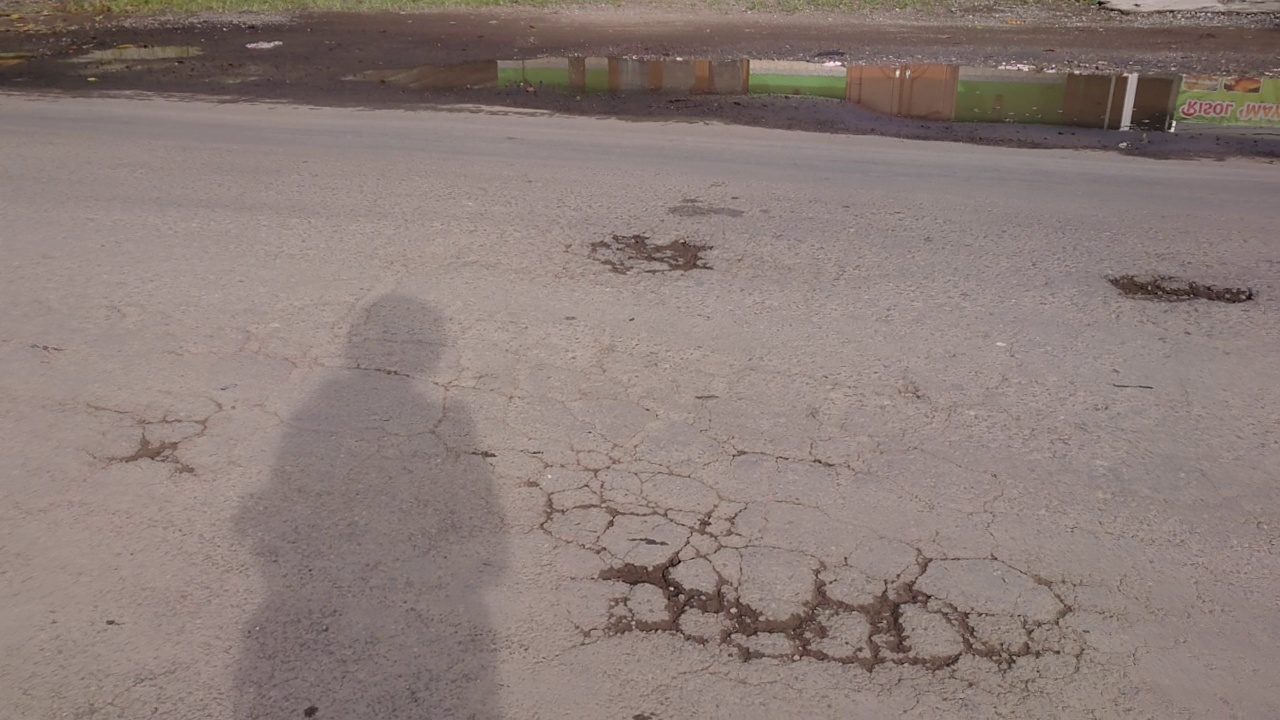Retak: (580, 467, 1084, 698), (570, 223, 740, 296), (1084, 269, 1256, 331), (124, 378, 212, 478)
